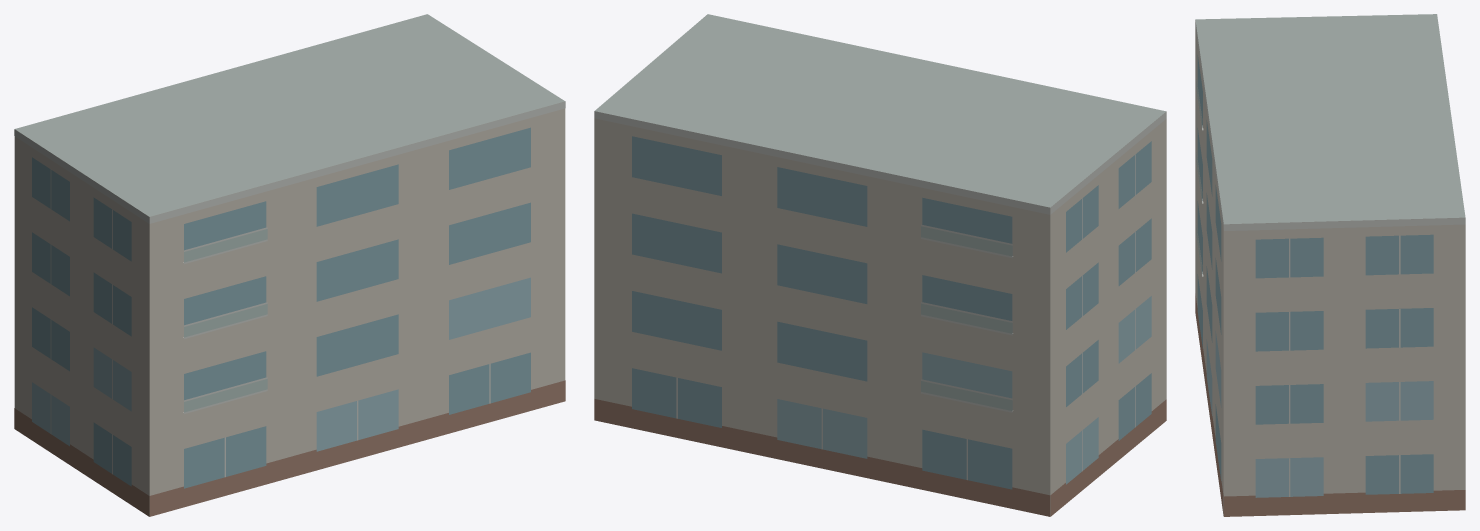
File: survey-upis-32742224.glb
3 renders of one model, left to right at view 1: azimuth 30°, elevation 25°; view 2: azimuth 150°, elevation 25°; view 3: azimuth 270°, elevation 25°, orthographic. The views are drawn at different scales.
Visible parts, largest first — view 1: survey-upis-32742224.tmp; view 2: survey-upis-32742224.tmp; view 3: survey-upis-32742224.tmp.
Boxes of the visible parts, x1,y1,x2,y2 form: survey-upis-32742224.tmp: (14, 14, 565, 516); survey-upis-32742224.tmp: (594, 14, 1166, 516); survey-upis-32742224.tmp: (1195, 14, 1465, 516).
Size of the model in its own units: 16.04 by 10.4 by 8.71.
